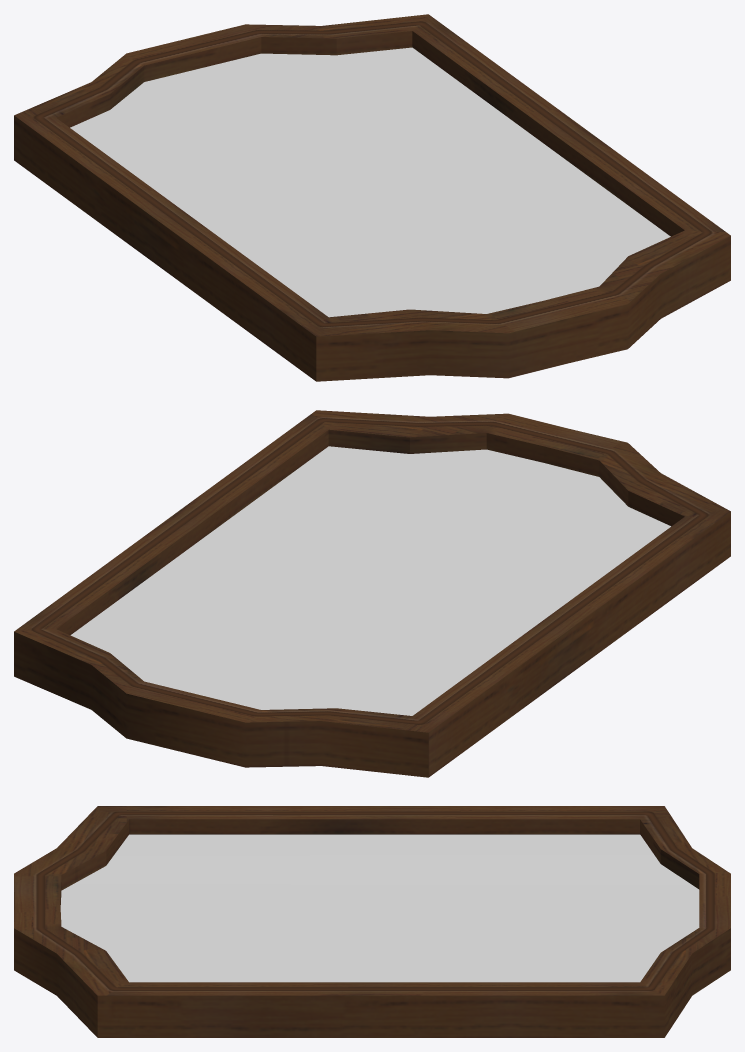
Rendered from mirror.fbx.
3 renders of one model, top to bottom at view 1: azimuth 30°, elevation 25°; view 2: azimuth 150°, elevation 25°; view 3: azimuth 270°, elevation 25°, orthographic. The views are drawn at different scales.
Visible parts, largest first — view 1: mirror; view 2: mirror; view 3: mirror.
Boxes of the visible parts, x1,y1,x2,y2 form: mirror: [14, 14, 730, 381]; mirror: [14, 410, 730, 777]; mirror: [14, 806, 730, 1037].
Bounding box in the file's own units: 35.88 × 3.72 × 57.33.
